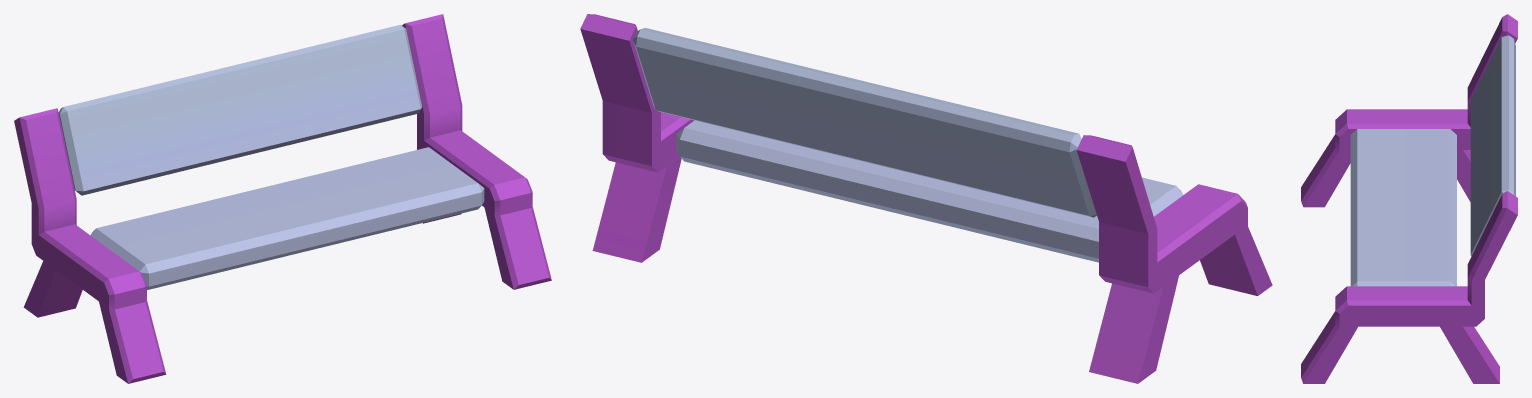
File: SM_City_Bench7.fbx
3 renders of one model, left to right at view 1: azimuth 30°, elevation 25°; view 2: azimuth 150°, elevation 25°; view 3: azimuth 270°, elevation 25°, orthographic. The views are drawn at different scales.
Parts seen in each view (by area): view 1: SM_City_Bench7; view 2: SM_City_Bench7; view 3: SM_City_Bench7.
Boxes of the visible parts, x1,y1,x2,y2 form: SM_City_Bench7: [14, 14, 551, 383]; SM_City_Bench7: [580, 14, 1272, 383]; SM_City_Bench7: [1301, 14, 1517, 383].
Bounding box in the file's own units: 249 × 105 × 117.
